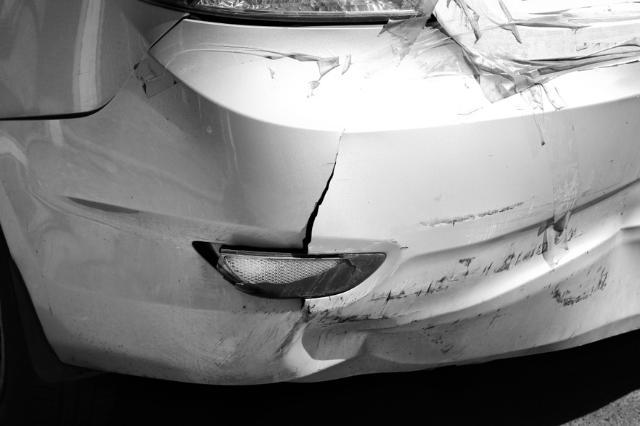Bumper: (124, 17, 636, 373)
